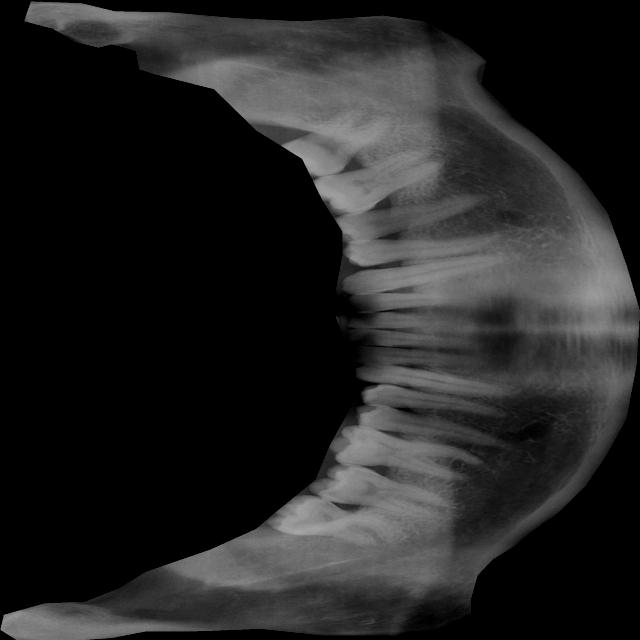mandibula: (0, 0, 640, 640)
